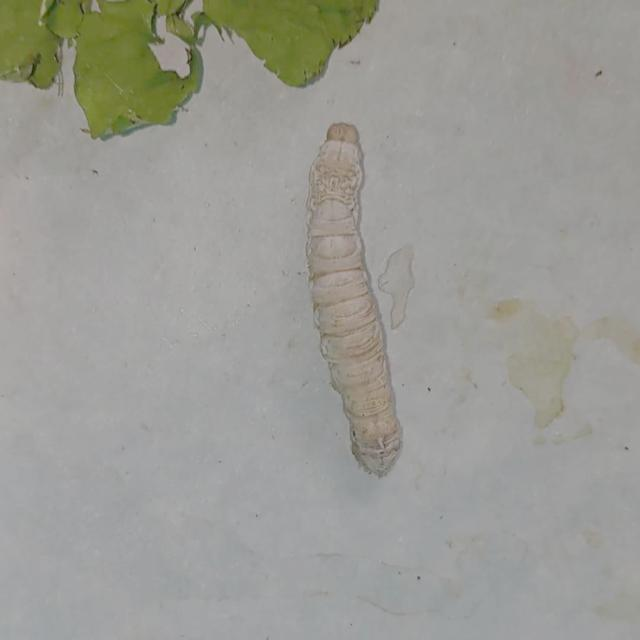Grasserie: (294, 103, 419, 487)
